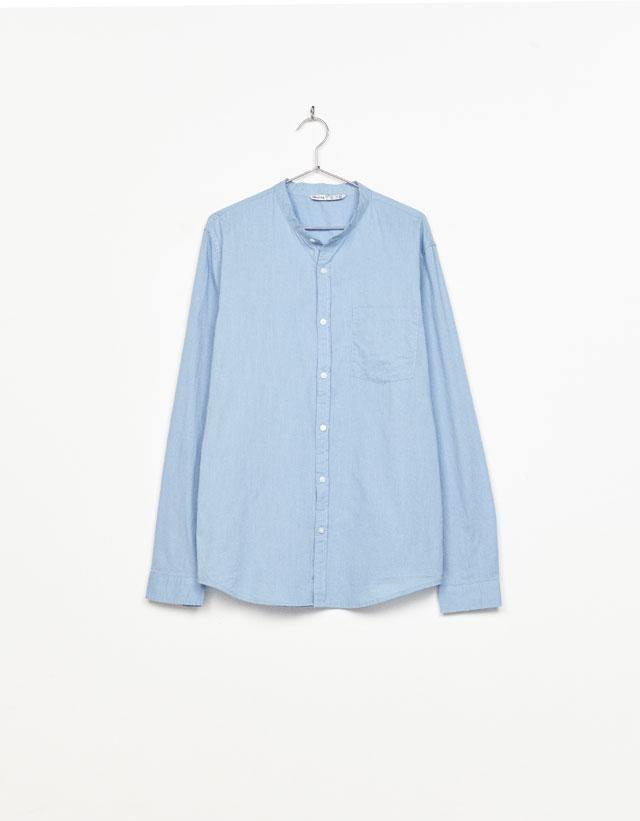teeshirt: (152, 170, 518, 669)
